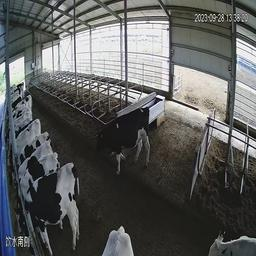cow: (15, 164, 83, 252), (85, 105, 155, 182), (8, 142, 61, 189), (3, 121, 49, 164), (186, 224, 252, 253), (99, 215, 135, 254), (1, 94, 34, 119)
